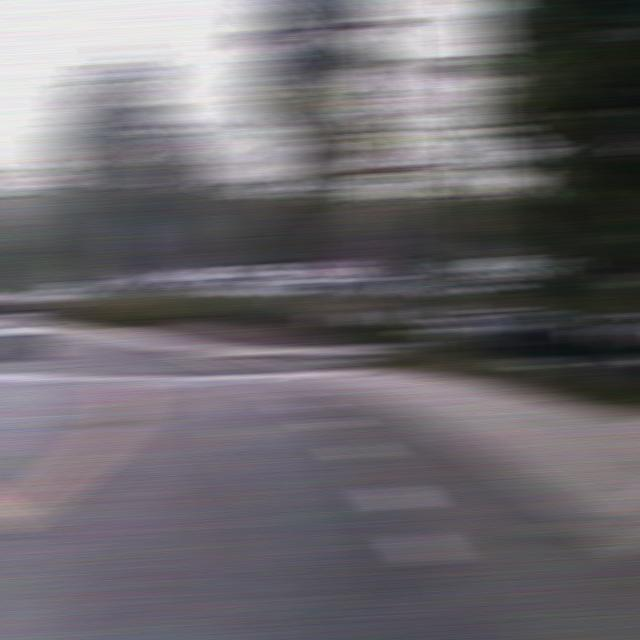stop_sign: (333, 245, 382, 278)
